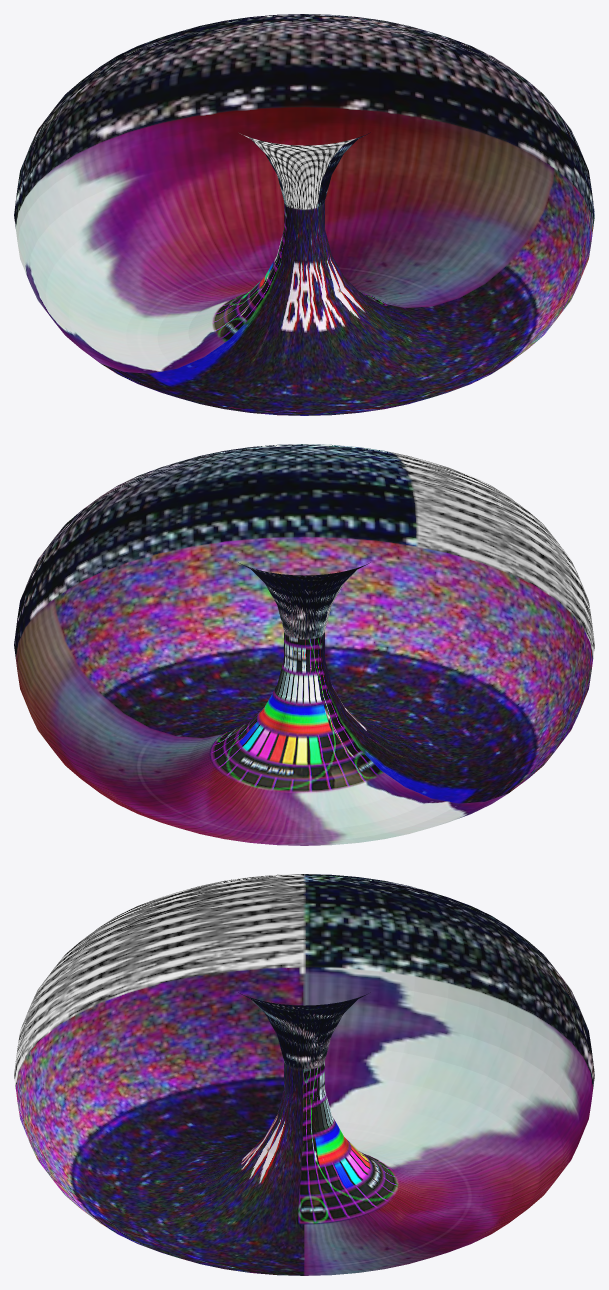
The model's file is 02_torus_inside_02.glb.
The picture shows the model from 3 angles, top to bottom: view 1: azimuth 30°, elevation 25°; view 2: azimuth 150°, elevation 25°; view 3: azimuth 270°, elevation 25°; orthographic projection.
Visible parts, largest first — view 1: Torus.inside; view 2: Torus.inside; view 3: Torus.inside.
Part boxes in pixels (<box>): Torus.inside: <box>14,14,594,415</box>; Torus.inside: <box>14,444,594,845</box>; Torus.inside: <box>14,874,594,1275</box>.
Bounding box in the file's own units: 31.3 × 14.57 × 31.3.
1 material, 1 textured.
